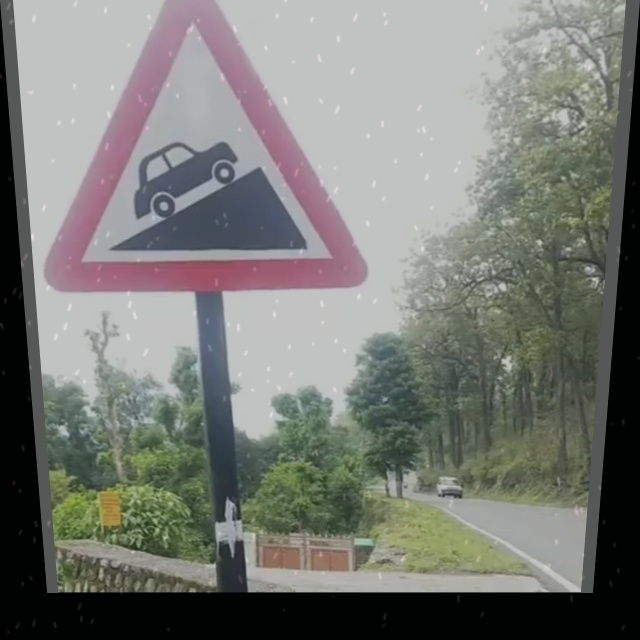Steep_Ascent: (43, 8, 366, 283)
